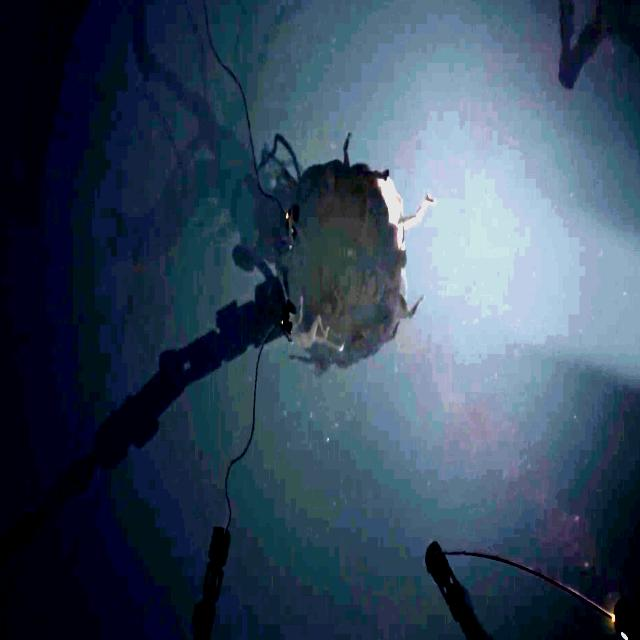blob: (279, 132, 435, 369)
boy: (283, 295, 343, 353)
interactible: (607, 594, 639, 640), (284, 202, 300, 240)
mechanism: (0, 282, 285, 585), (559, 0, 640, 95), (424, 537, 488, 640), (188, 526, 230, 640)
